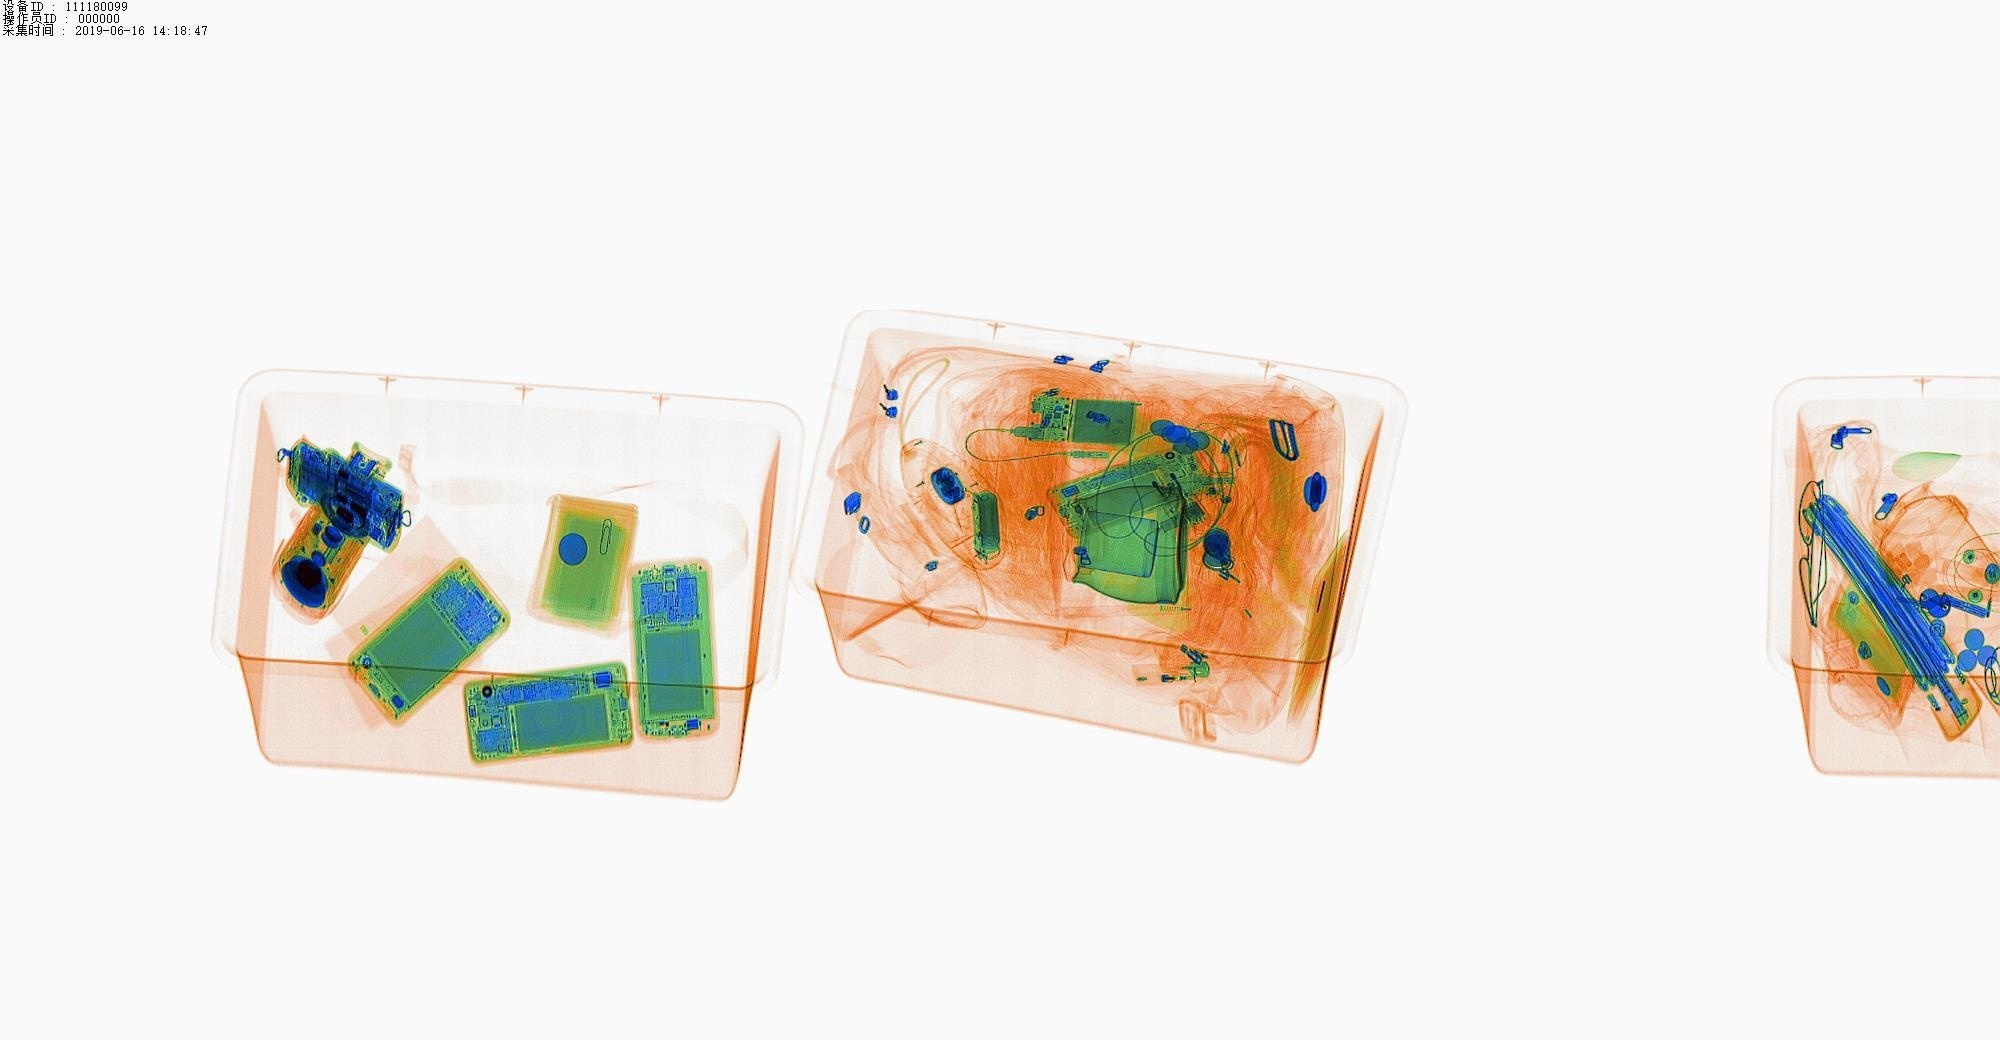NonmetallicFire: (1111, 647, 1230, 699)
